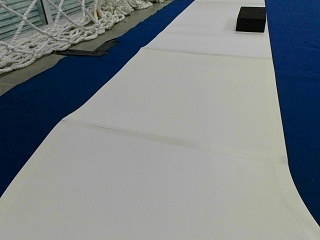block: (236, 6, 266, 31)
